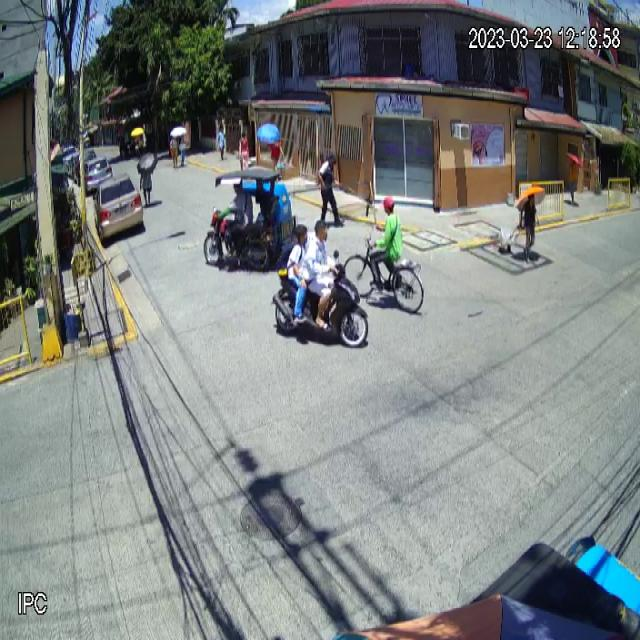Car: (93, 172, 143, 244)
Motorcycle: (272, 250, 369, 348)
Tricycle: (203, 168, 298, 270)
